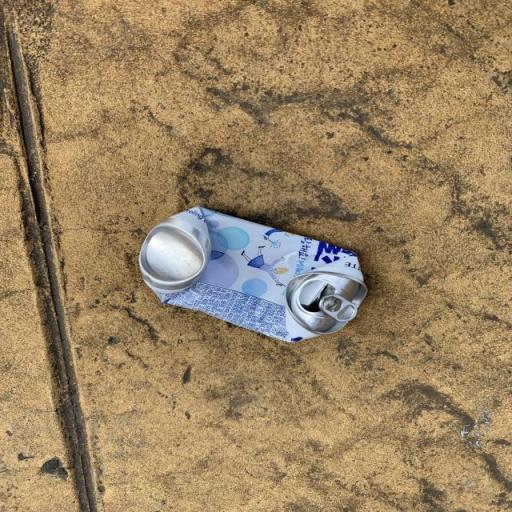metal: (76, 190, 396, 362)
